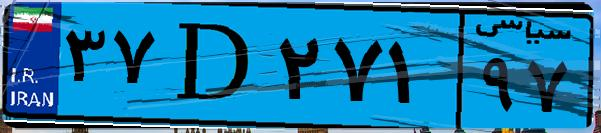1: (385, 28, 445, 110)
2: (270, 28, 330, 110)
3: (57, 26, 110, 100)
7: (330, 28, 385, 110), (525, 38, 570, 115), (110, 28, 158, 98)
9: (475, 38, 525, 113)
D: (158, 12, 270, 120)
